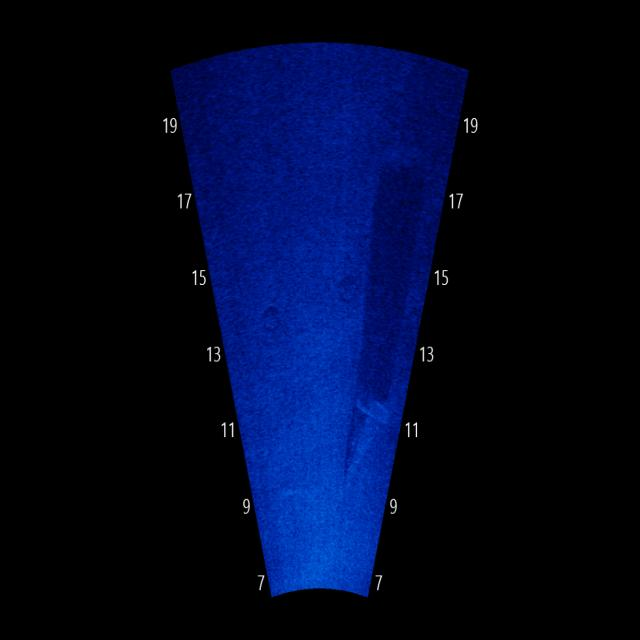circle: (332, 265, 366, 315), (254, 301, 289, 337)
triangle: (342, 384, 392, 481)
